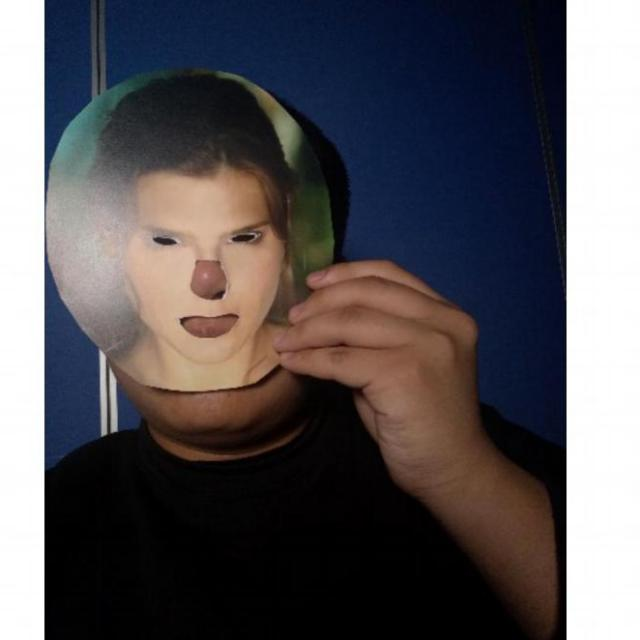mask: (46, 66, 334, 394)
